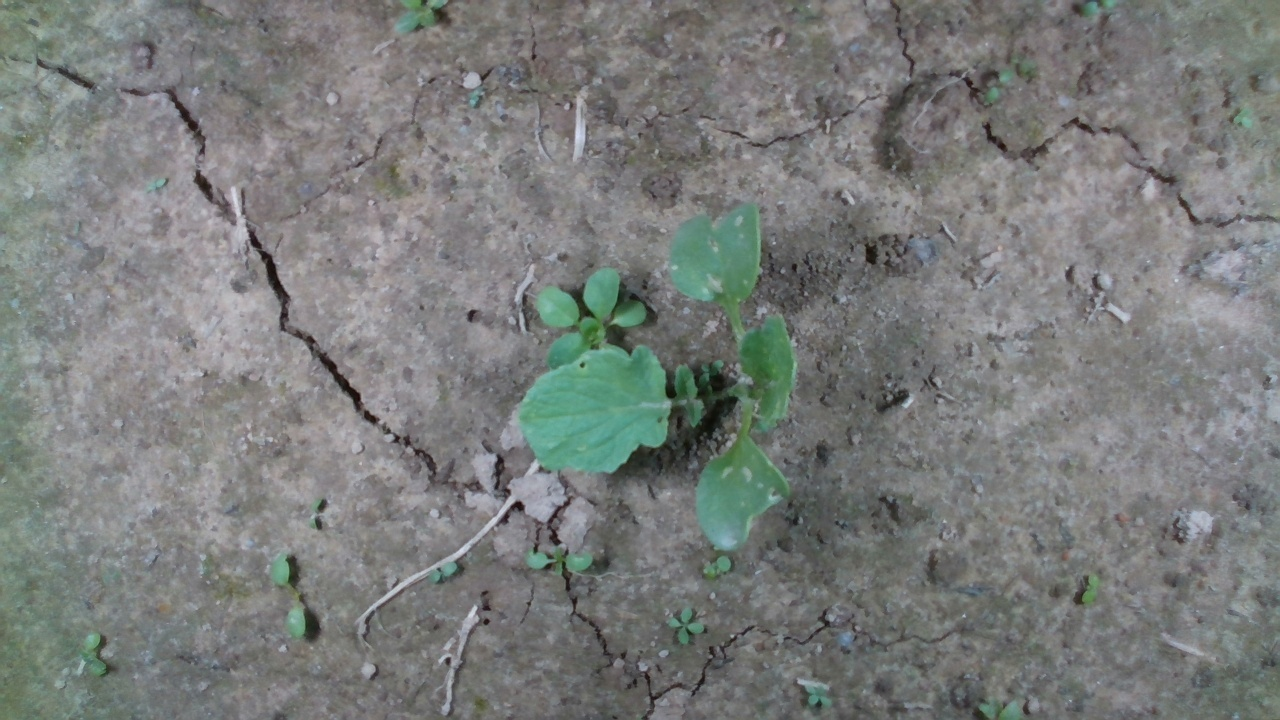weed: (269, 550, 306, 641), (525, 543, 594, 574), (666, 604, 706, 645), (76, 630, 108, 676), (983, 67, 1011, 104), (426, 559, 459, 585), (700, 553, 733, 579), (698, 357, 724, 387), (804, 682, 833, 708), (1081, 570, 1101, 605), (1231, 104, 1255, 130), (310, 494, 325, 532)
